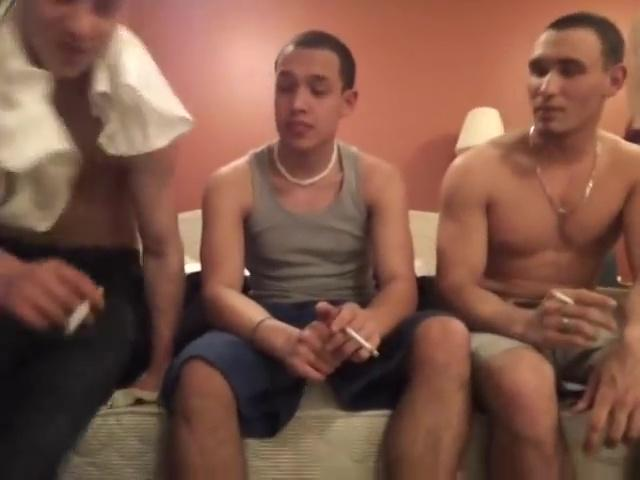cigarette: (62, 284, 106, 338), (345, 326, 384, 357), (551, 288, 579, 307)
